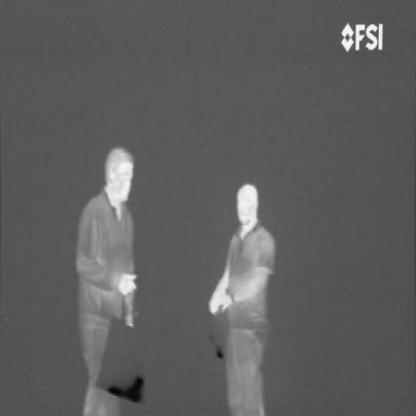weapon: (106, 370, 145, 406)
